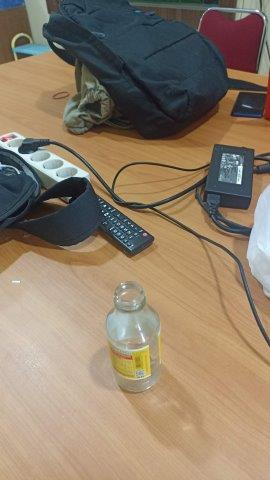botolkaca: (106, 281, 162, 394)
